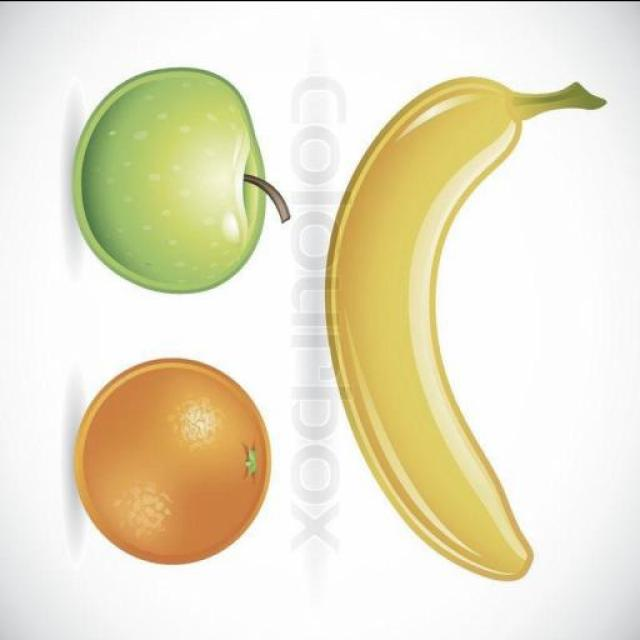Apple: (65, 214, 436, 599)
Banana: (38, 57, 614, 402)
Orange: (257, 215, 547, 505)
